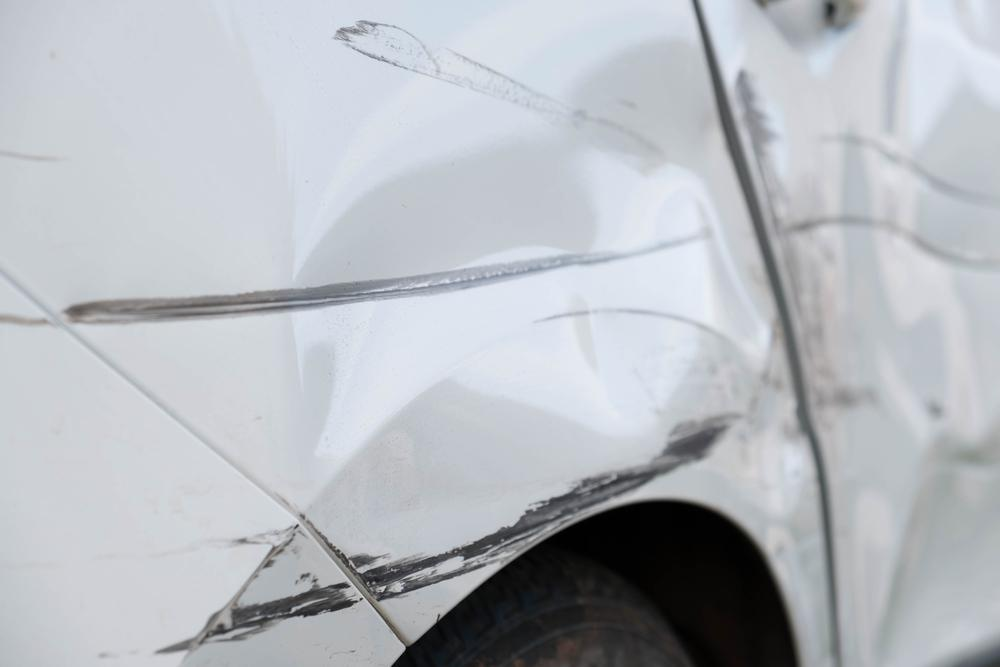dent: (289, 41, 761, 549)
scratch: (276, 406, 752, 605), (145, 520, 378, 665), (329, 18, 577, 130), (56, 289, 299, 326)
